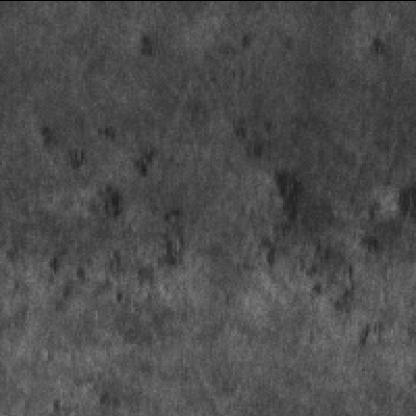rolled-in_scale: (233, 133, 410, 335), (56, 164, 187, 310)
